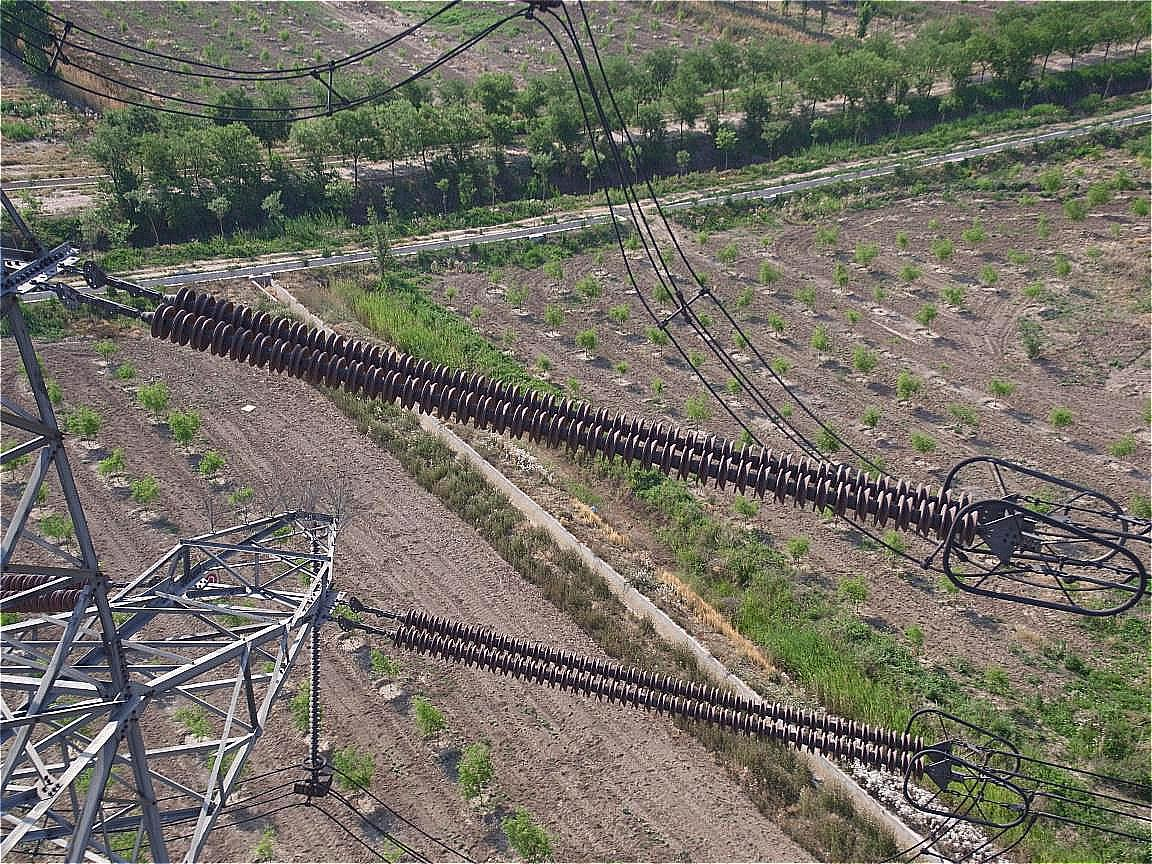insultor2: (116, 272, 986, 547), (370, 592, 939, 786)
